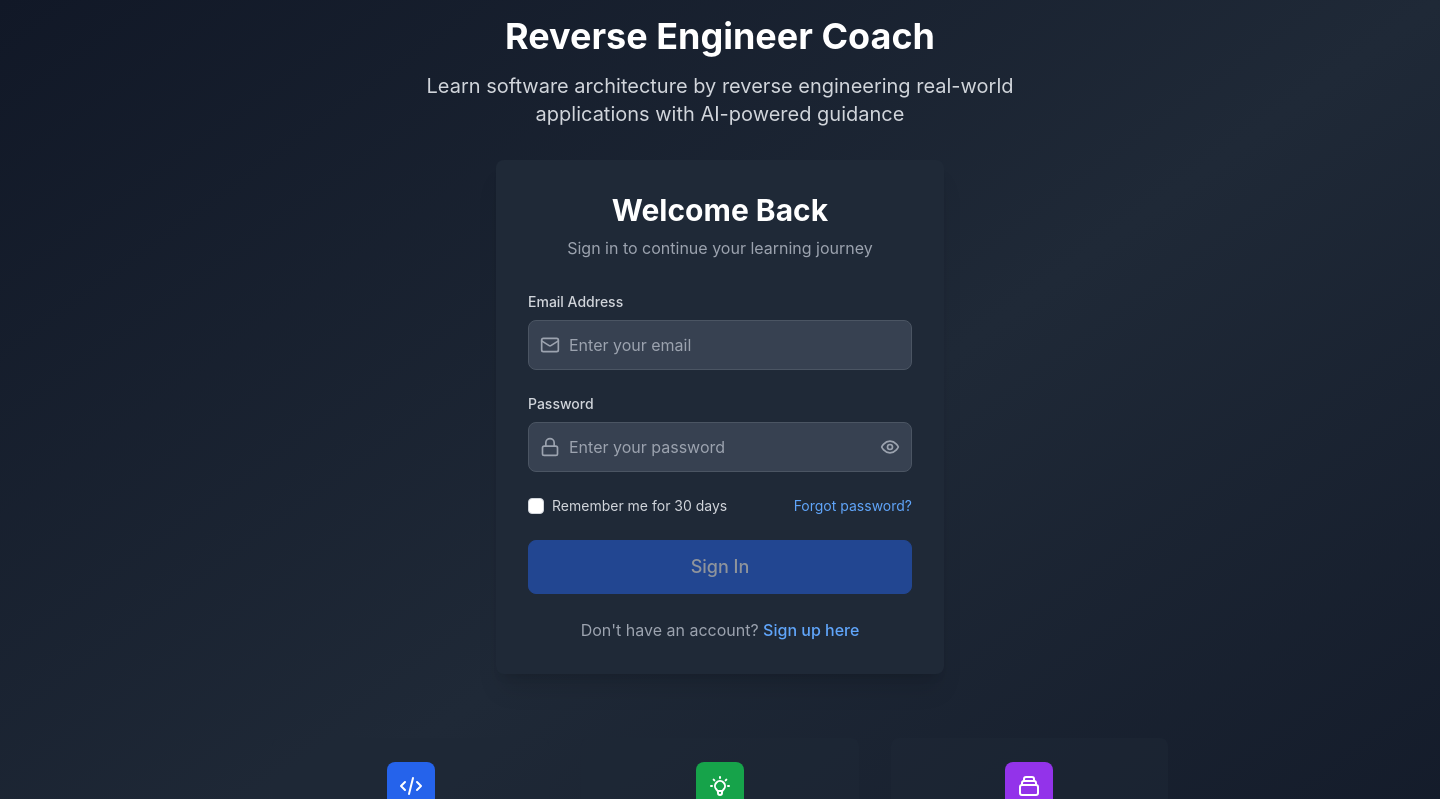
E2E User Workflow Tests › Cross-Browser Compatibility Testing › should handle different input methods and IME
Type "test@" into the field labelled "Email Address" at (720, 345), box [528,320,912,370]
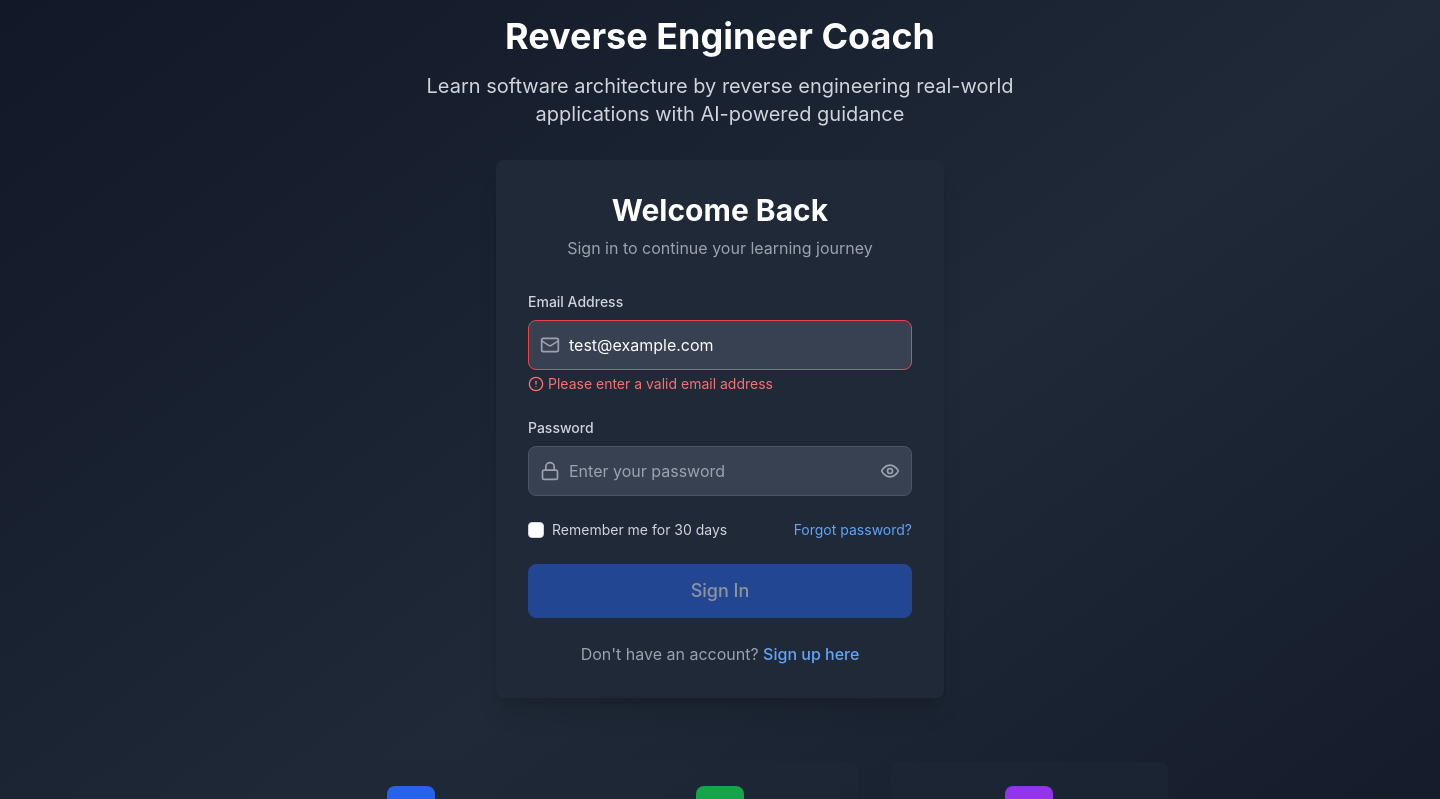
Expected: the field labelled "Email Address" holds "test@example.com", [528,320,912,370]
